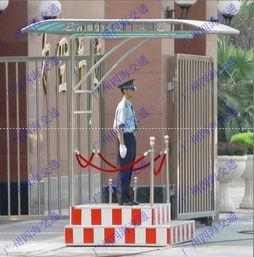up: (112, 77, 146, 207)
